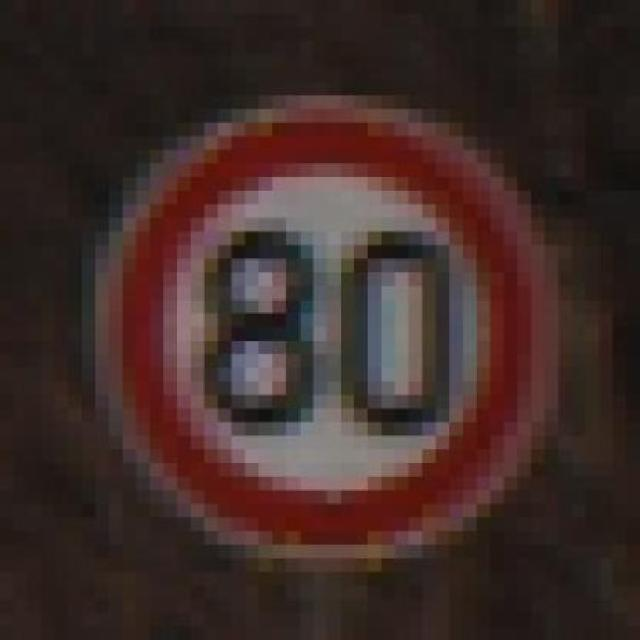forb_speed_over_80: (119, 118, 543, 553)
